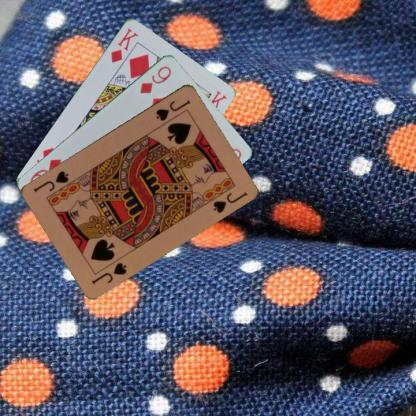9d: (137, 63, 173, 95)
Js: (153, 96, 192, 122), (89, 259, 128, 285)
Kd: (107, 25, 140, 63)
